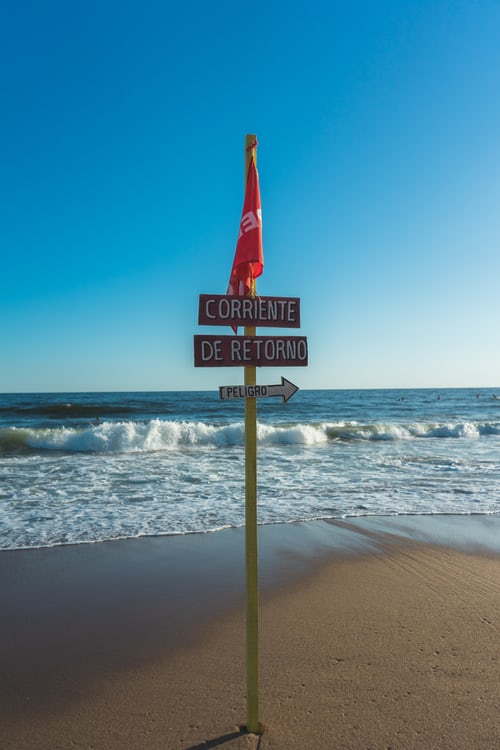Flag: (224, 155, 264, 331)
